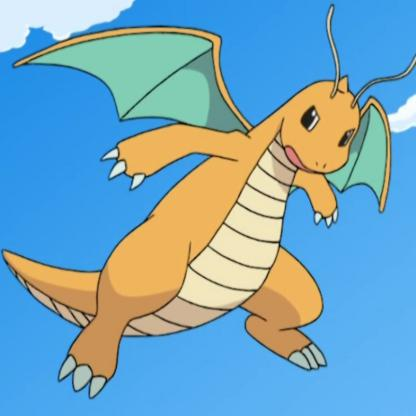Dragonite: (1, 16, 416, 387)
